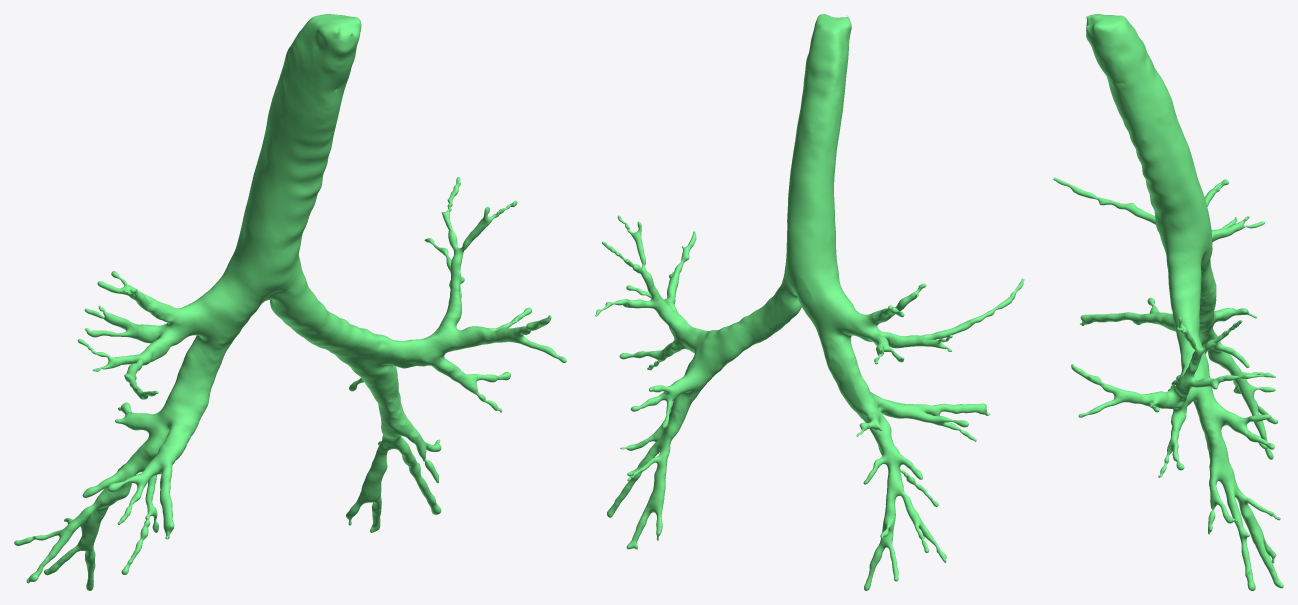
The picture shows the model from 3 angles, left to right: view 1: azimuth 30°, elevation 25°; view 2: azimuth 150°, elevation 25°; view 3: azimuth 270°, elevation 25°; orthographic projection. The views are drawn at different scales.
Parts seen in each view (by area): view 1: split_parent_0; view 2: split_parent_0; view 3: split_parent_0.
Boxes of the visible parts, <box> form: split_parent_0: <box>14,14,566,590</box>; split_parent_0: <box>595,14,1024,590</box>; split_parent_0: <box>1053,14,1283,590</box>.
Bounding box in the file's own units: 0.7599 × 1 × 0.4089.
